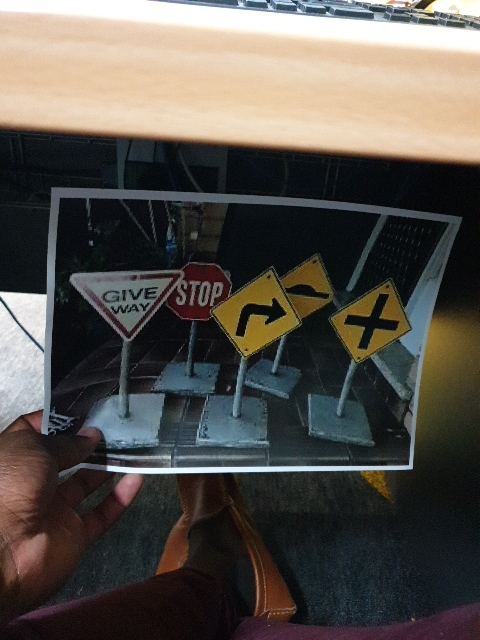giveway: (72, 259, 184, 355)
right: (217, 269, 300, 352)
stop: (158, 247, 239, 327)
